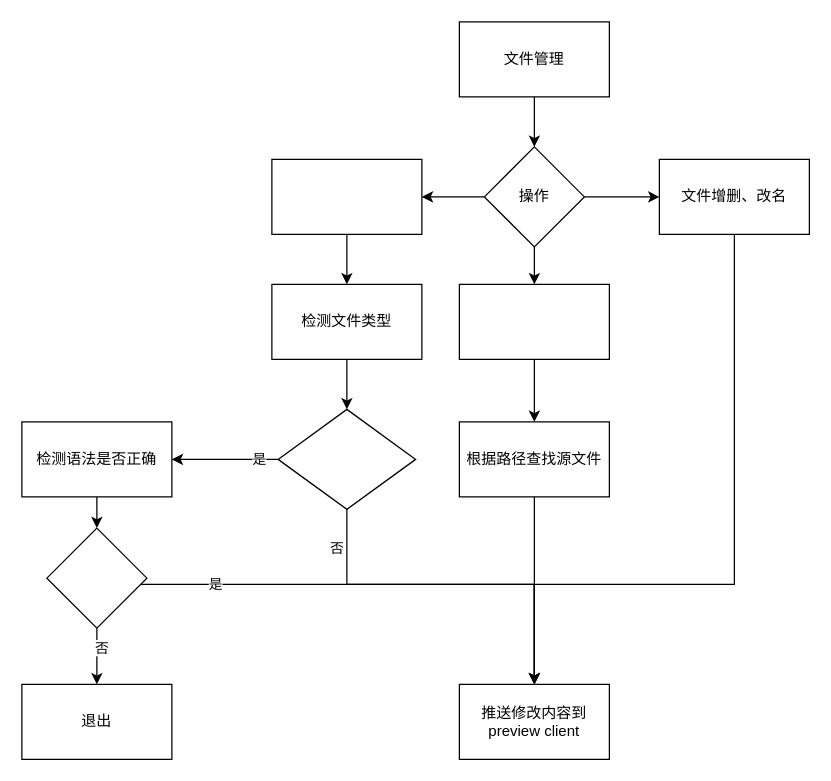
This 831x781 diagram has some shape labels left out. Each missing label, with the centre of its shape:
"qml 引擎主动请求" belongs at [533,321].
"是否为qml或js？" belongs at [346,458].
"有文件被修改" belongs at [346,196].
"语法正确？" belongs at [96,577].
